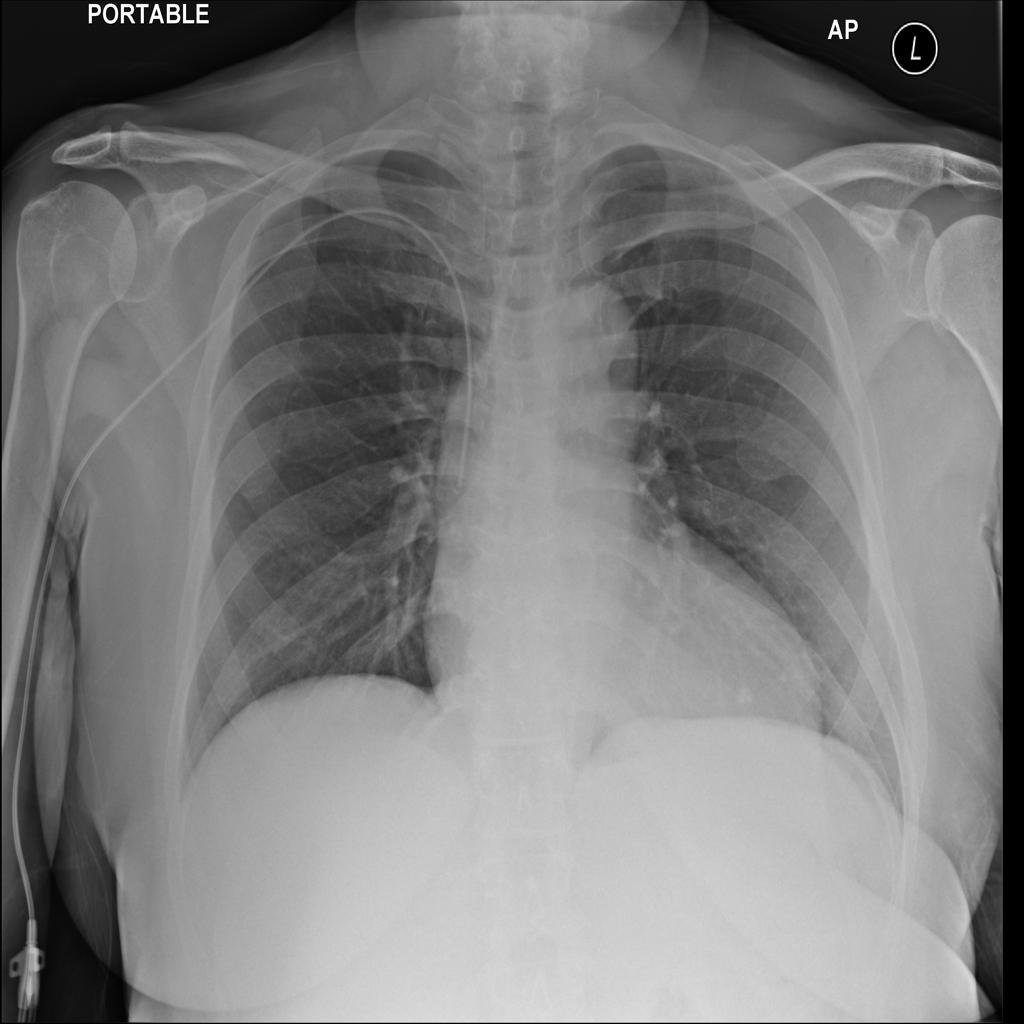nodule: (721, 669, 767, 720)
